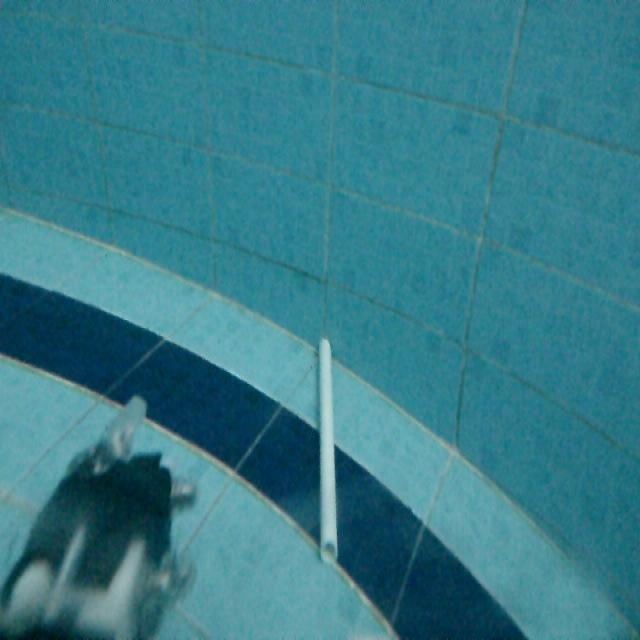Cube: (313, 331, 340, 564)
